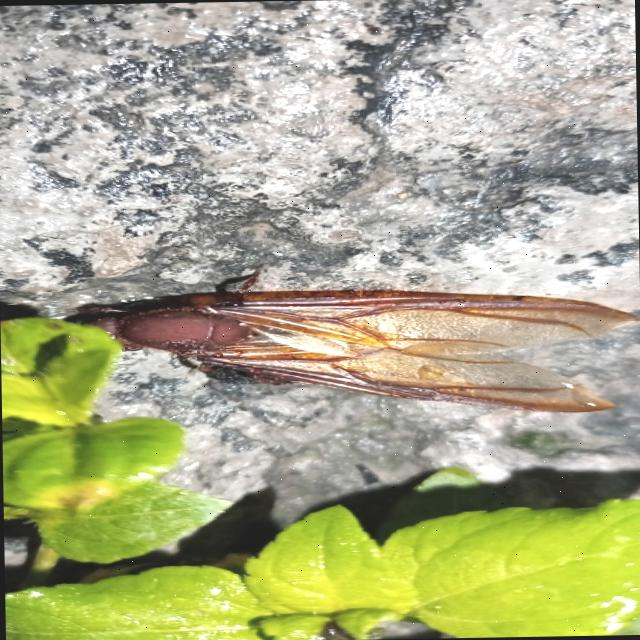Alive-Female-Alate: (70, 255, 640, 422)
